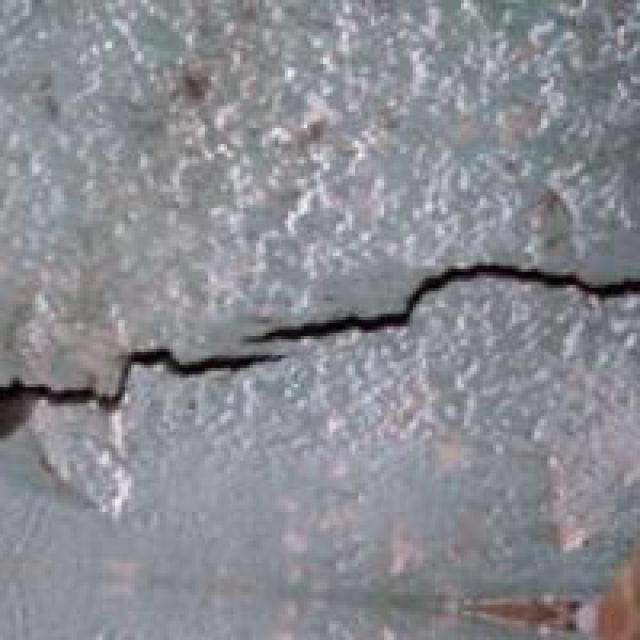Crack: (6, 211, 637, 432)
